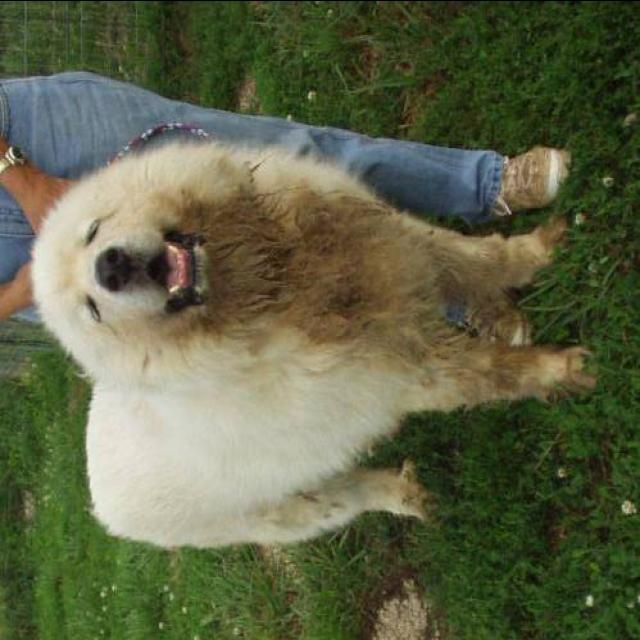dog: (13, 121, 587, 567)
